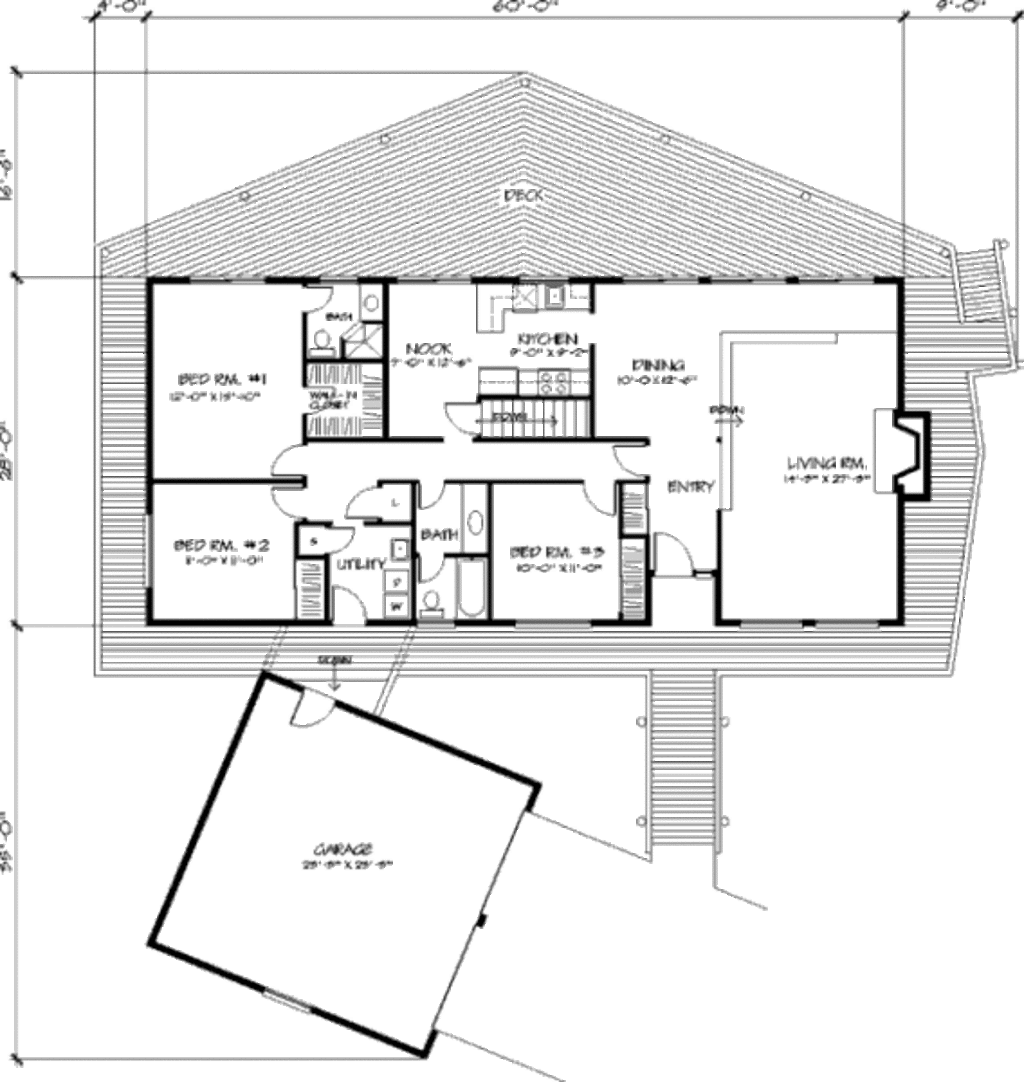door: (288, 683, 351, 754), (650, 530, 706, 583), (327, 581, 381, 632), (403, 462, 454, 513), (606, 430, 662, 476), (264, 438, 329, 476), (434, 391, 485, 437), (339, 481, 397, 520), (410, 538, 456, 586), (256, 481, 308, 523), (581, 479, 623, 527), (312, 525, 368, 559), (297, 277, 341, 316)
large_sink: (307, 320, 351, 360), (414, 581, 453, 623)
small_sink: (459, 477, 495, 559)
stairs: (633, 655, 752, 888), (473, 359, 599, 442)
tub: (453, 555, 498, 622)
window: (132, 503, 166, 598)
